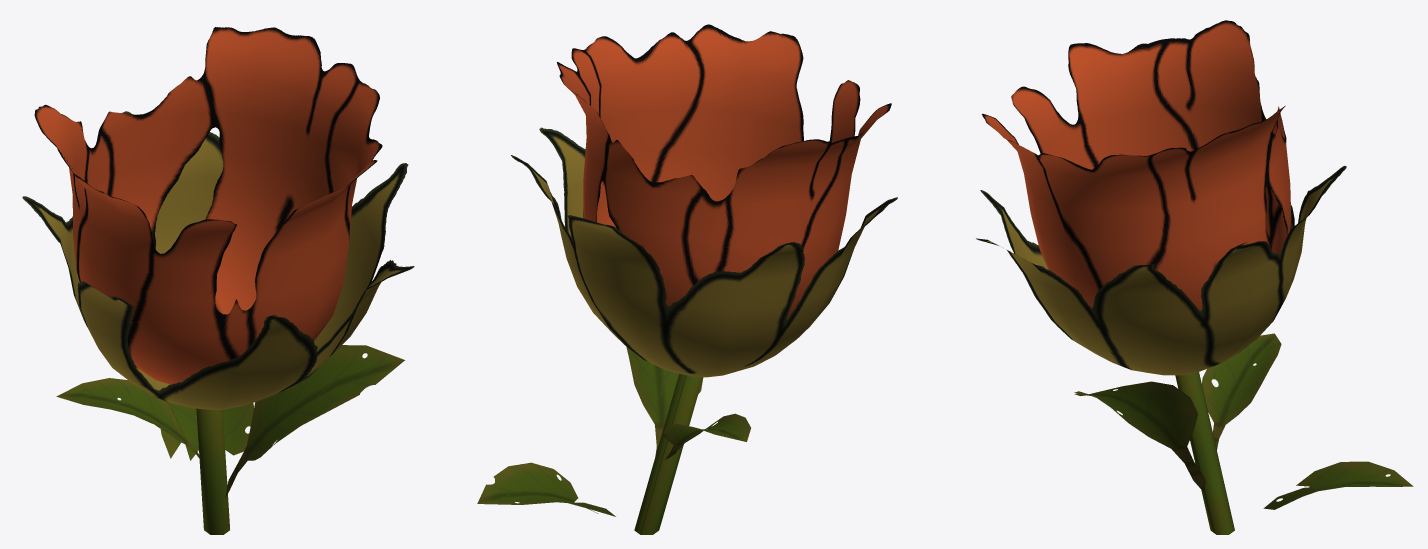
3 views of the same model, side by side, from view 1: azimuth 30°, elevation 25°; view 2: azimuth 150°, elevation 25°; view 3: azimuth 270°, elevation 25° (orthographic). The views are drawn at different scales.
Visible parts, largest first — view 1: 1bc478bb; view 2: 1bc478bb; view 3: 1bc478bb.
Boxes of the visible parts, bbox=[...] form: 1bc478bb: bbox=[22, 27, 414, 534]; 1bc478bb: bbox=[477, 24, 897, 534]; 1bc478bb: bbox=[976, 20, 1413, 534].
Bounding box in the file's own units: 0.0573 × 0.0678 × 0.0642.
1 material, 1 textured.
